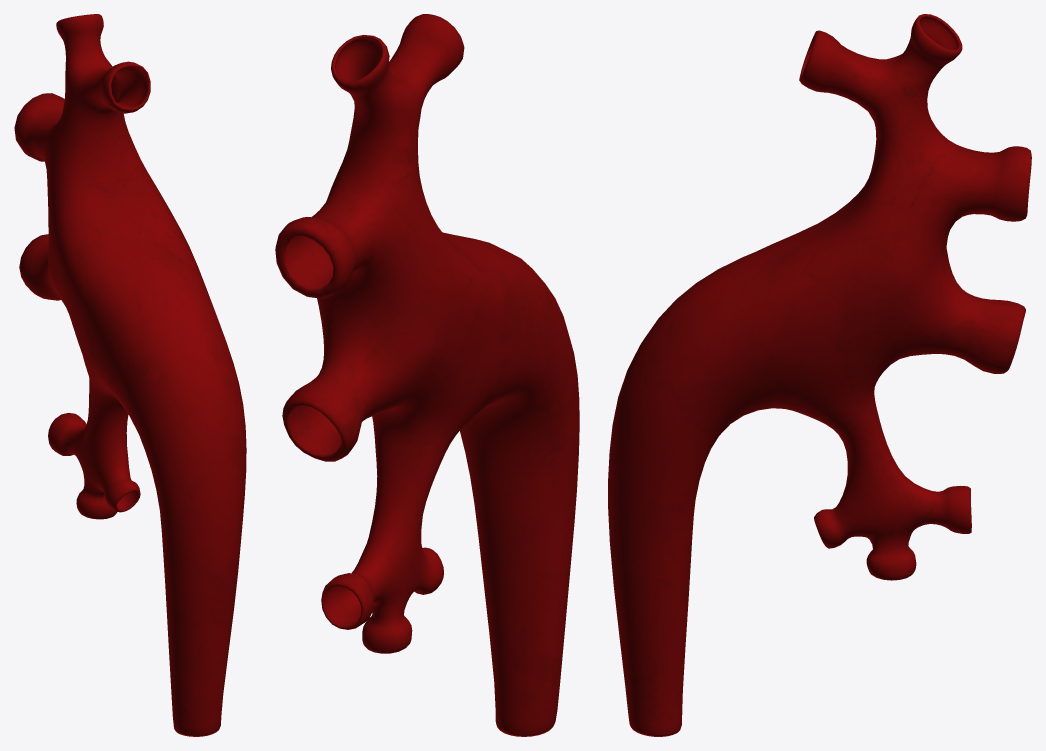
File: Caliz_Completo.glb
3 renders of one model, left to right at view 1: azimuth 30°, elevation 25°; view 2: azimuth 150°, elevation 25°; view 3: azimuth 270°, elevation 25°, orthographic. The views are drawn at different scales.
Parts seen in each view (by area): view 1: CALIZ_CORTE.001; view 2: CALIZ_CORTE.001; view 3: CALIZ_CORTE.001.
Boxes of the visible parts, box(x1,y1,x2,y2) form: CALIZ_CORTE.001: box(14, 14, 246, 736); CALIZ_CORTE.001: box(275, 14, 579, 736); CALIZ_CORTE.001: box(608, 14, 1031, 736).
Size of the model in its own units: 0.3907 by 2.09 by 1.13.
Materials: 1 (1 with a texture image).
